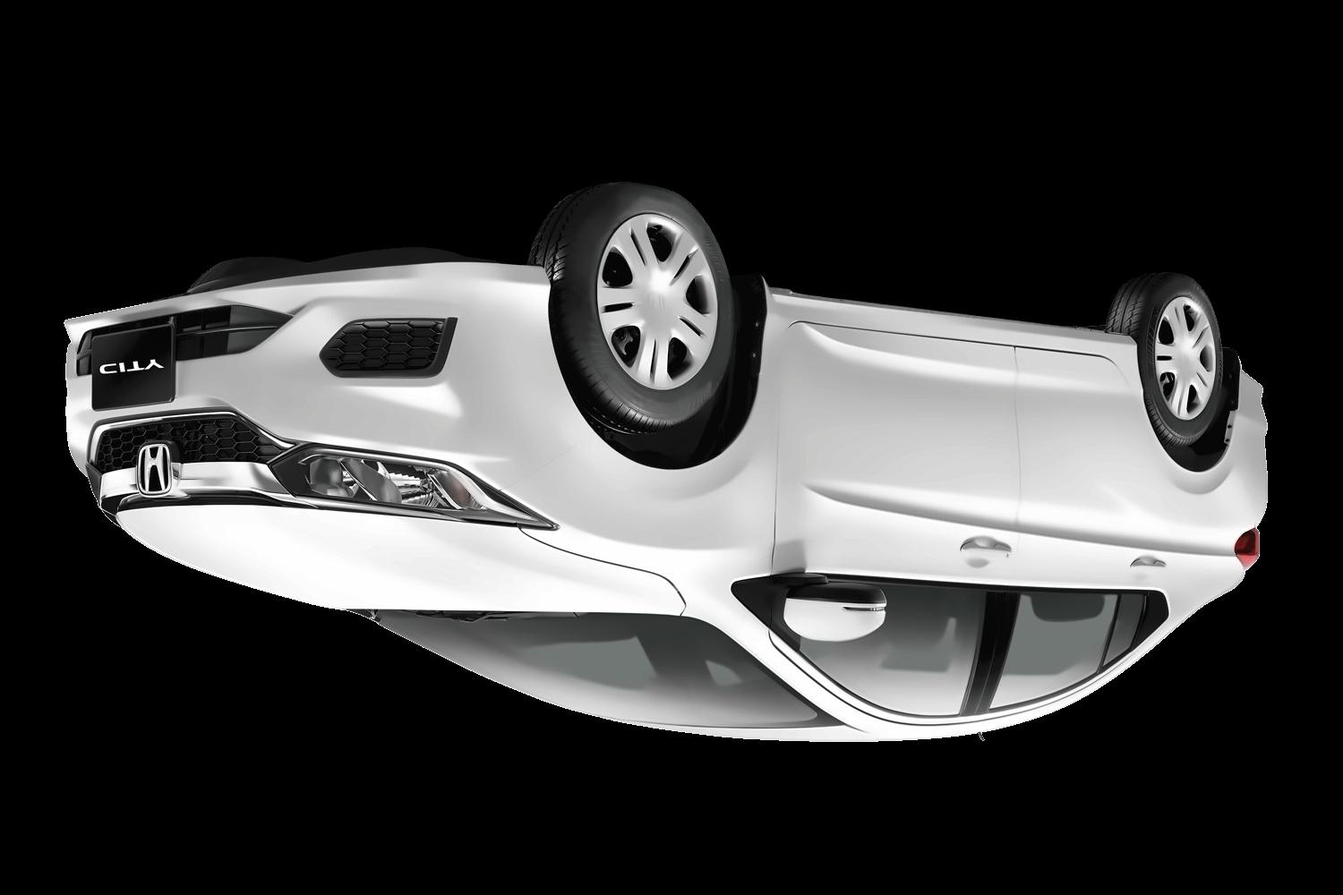Car hood: (106, 498, 693, 625)
Driver-s door - -F-R-: (742, 255, 1034, 764)
Fender - -F-R-: (497, 243, 792, 649)
Fender - -R-R-: (1106, 306, 1264, 672)
Front bumper: (60, 257, 576, 484)
Headlight - -R-: (266, 442, 563, 529)
Passenger-s door - -R-R-: (936, 246, 1173, 759)
Side bumper - -R-: (754, 276, 1190, 422)
Side mirror - -R-: (755, 570, 893, 649)
